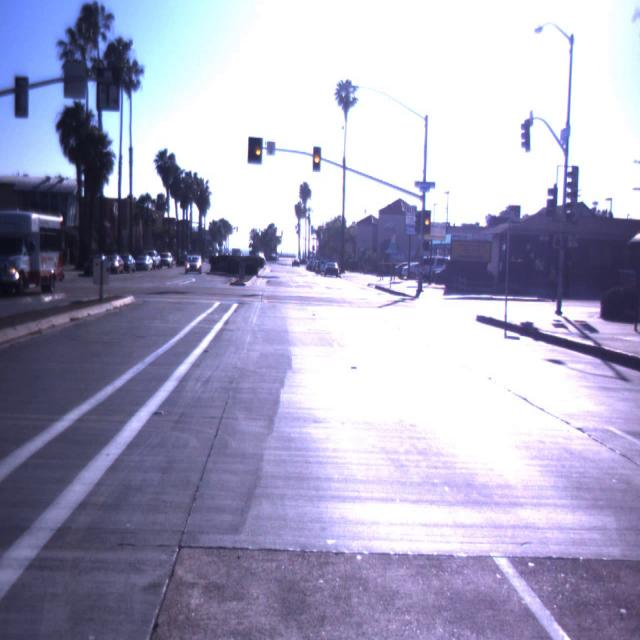warning: (255, 148, 261, 156), (314, 156, 320, 163), (426, 220, 429, 225)
warning traffic light: (249, 132, 267, 168), (309, 142, 325, 172), (423, 211, 432, 231)
